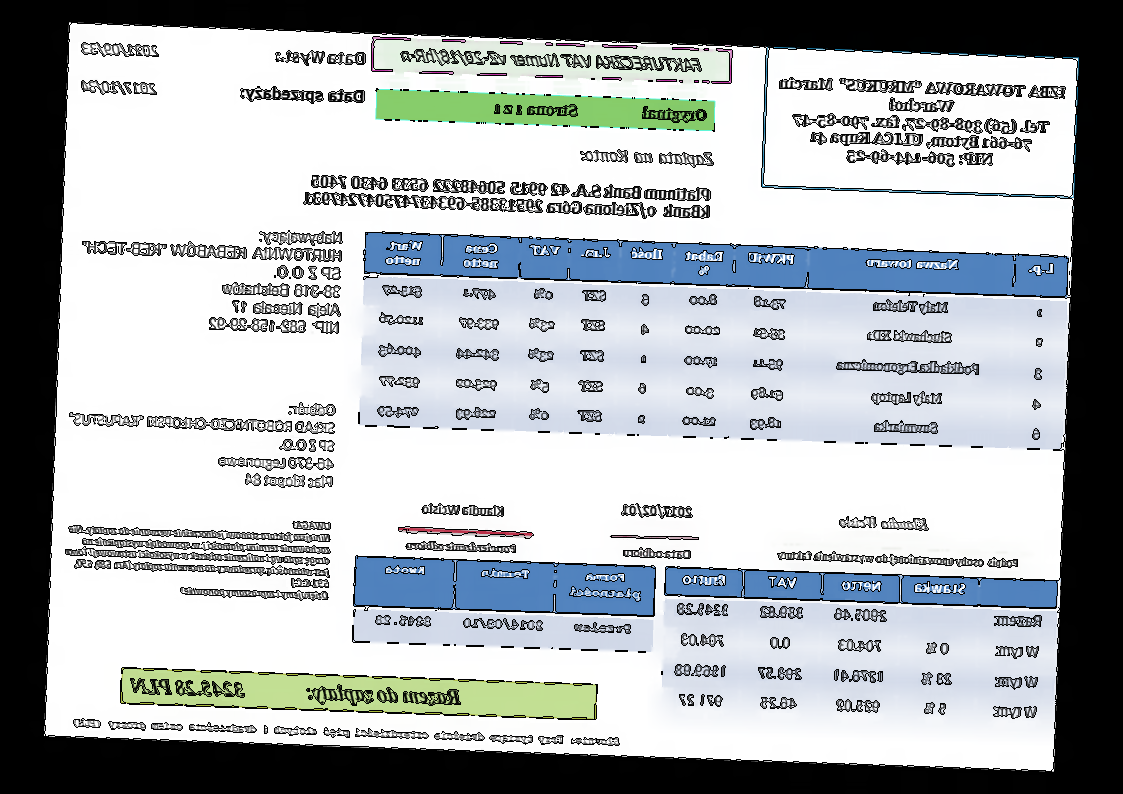Table: (357, 230, 1070, 452), (661, 565, 1060, 733), (351, 554, 658, 654)
TextBox: (75, 220, 344, 337), (775, 72, 1069, 174), (64, 392, 338, 493), (60, 509, 334, 604), (302, 172, 714, 221), (70, 716, 623, 749), (128, 675, 464, 711), (397, 45, 705, 76), (492, 97, 710, 126), (774, 548, 1020, 571), (577, 144, 717, 170), (237, 81, 368, 108), (273, 46, 367, 70), (403, 537, 519, 556), (837, 511, 932, 533), (80, 38, 162, 62), (79, 76, 160, 97), (421, 501, 508, 519), (619, 501, 696, 521), (623, 545, 694, 561)
